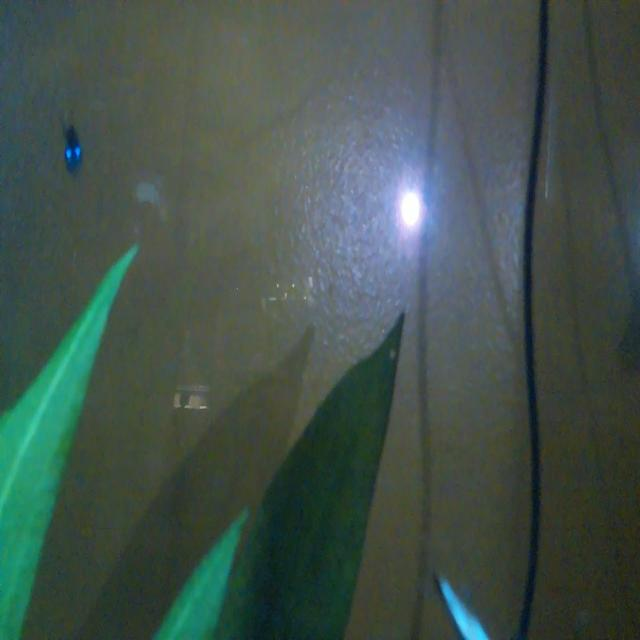fish: (52, 110, 86, 181)
